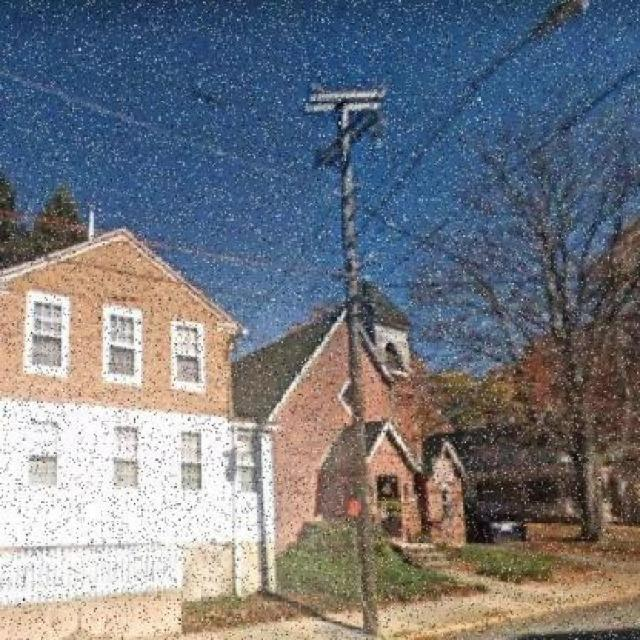pole: (288, 50, 406, 639)
